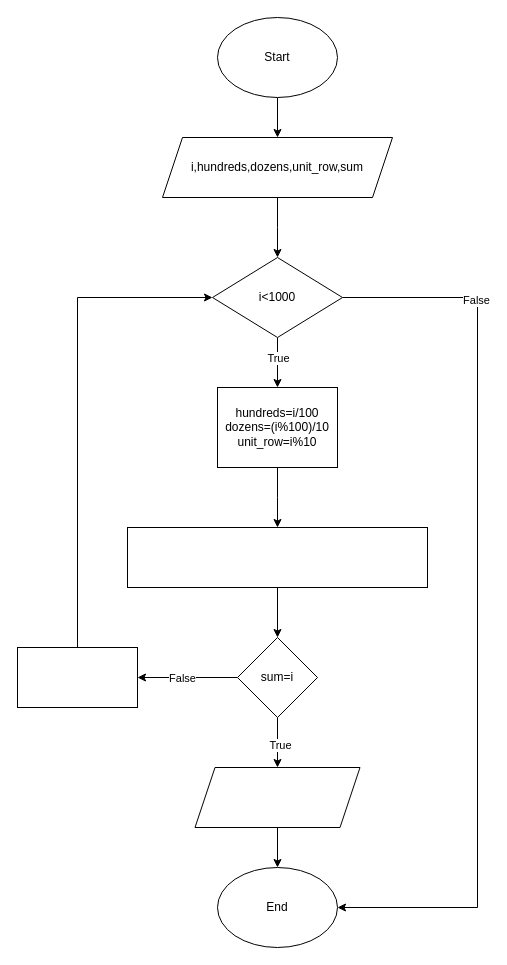
Image size: 507x965. Some labels were removed from this diagram. Here are the shapes that lost their labels. From the top down, the centre of each, then its label:
At (x=277, y=557): "sum=pow(hundreds,3)+pow(dozens,3)+pow(unit_row,3)".
At (x=77, y=677): "i ++".
At (x=277, y=797): "Đây là số Armstrong".
